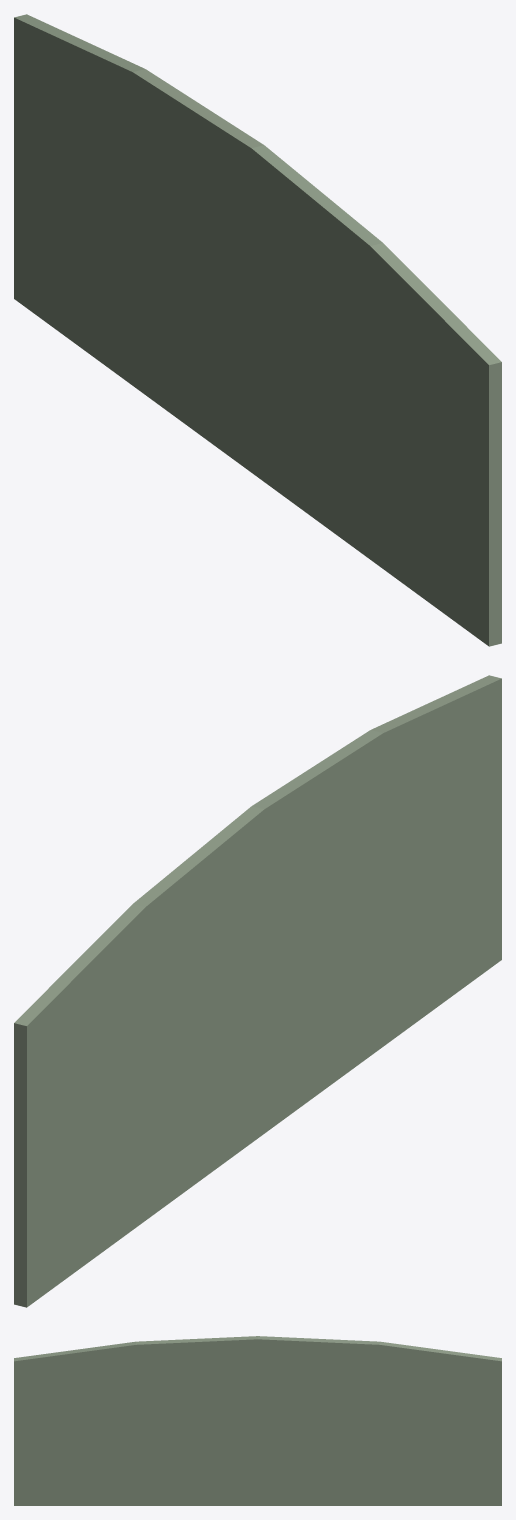
File: Wall_left.fbx
3 views of the same model, one above another, from view 1: azimuth 30°, elevation 25°; view 2: azimuth 150°, elevation 25°; view 3: azimuth 270°, elevation 25° (orthographic). The views are drawn at different scales.
Visible parts, largest first — view 1: Wall_Left.001; view 2: Wall_Left.001; view 3: Wall_Left.001.
Boxes of the visible parts, left/top/right/bottom form: Wall_Left.001: left=14, top=14, right=501, bottom=646; Wall_Left.001: left=14, top=675, right=501, bottom=1307; Wall_Left.001: left=14, top=1336, right=501, bottom=1505.
Bounding box in the file's own units: 25 × 602 × 1597.
